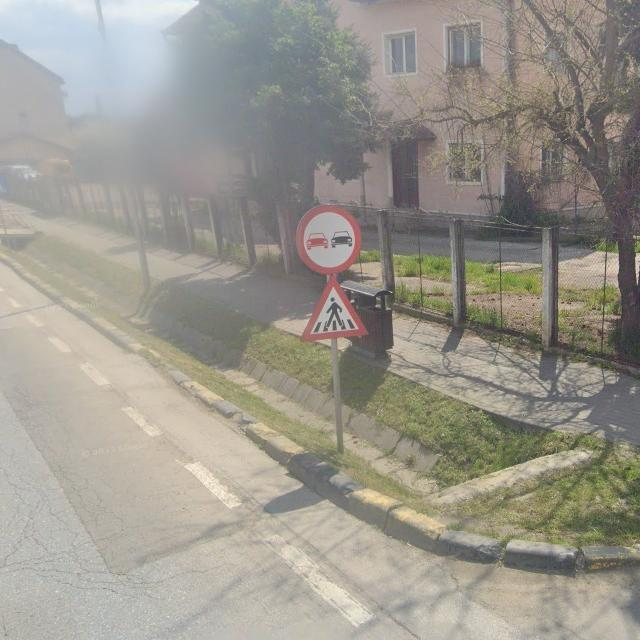forb_overtake: (297, 205, 361, 276)
warn_crosswalk: (300, 275, 369, 341)
